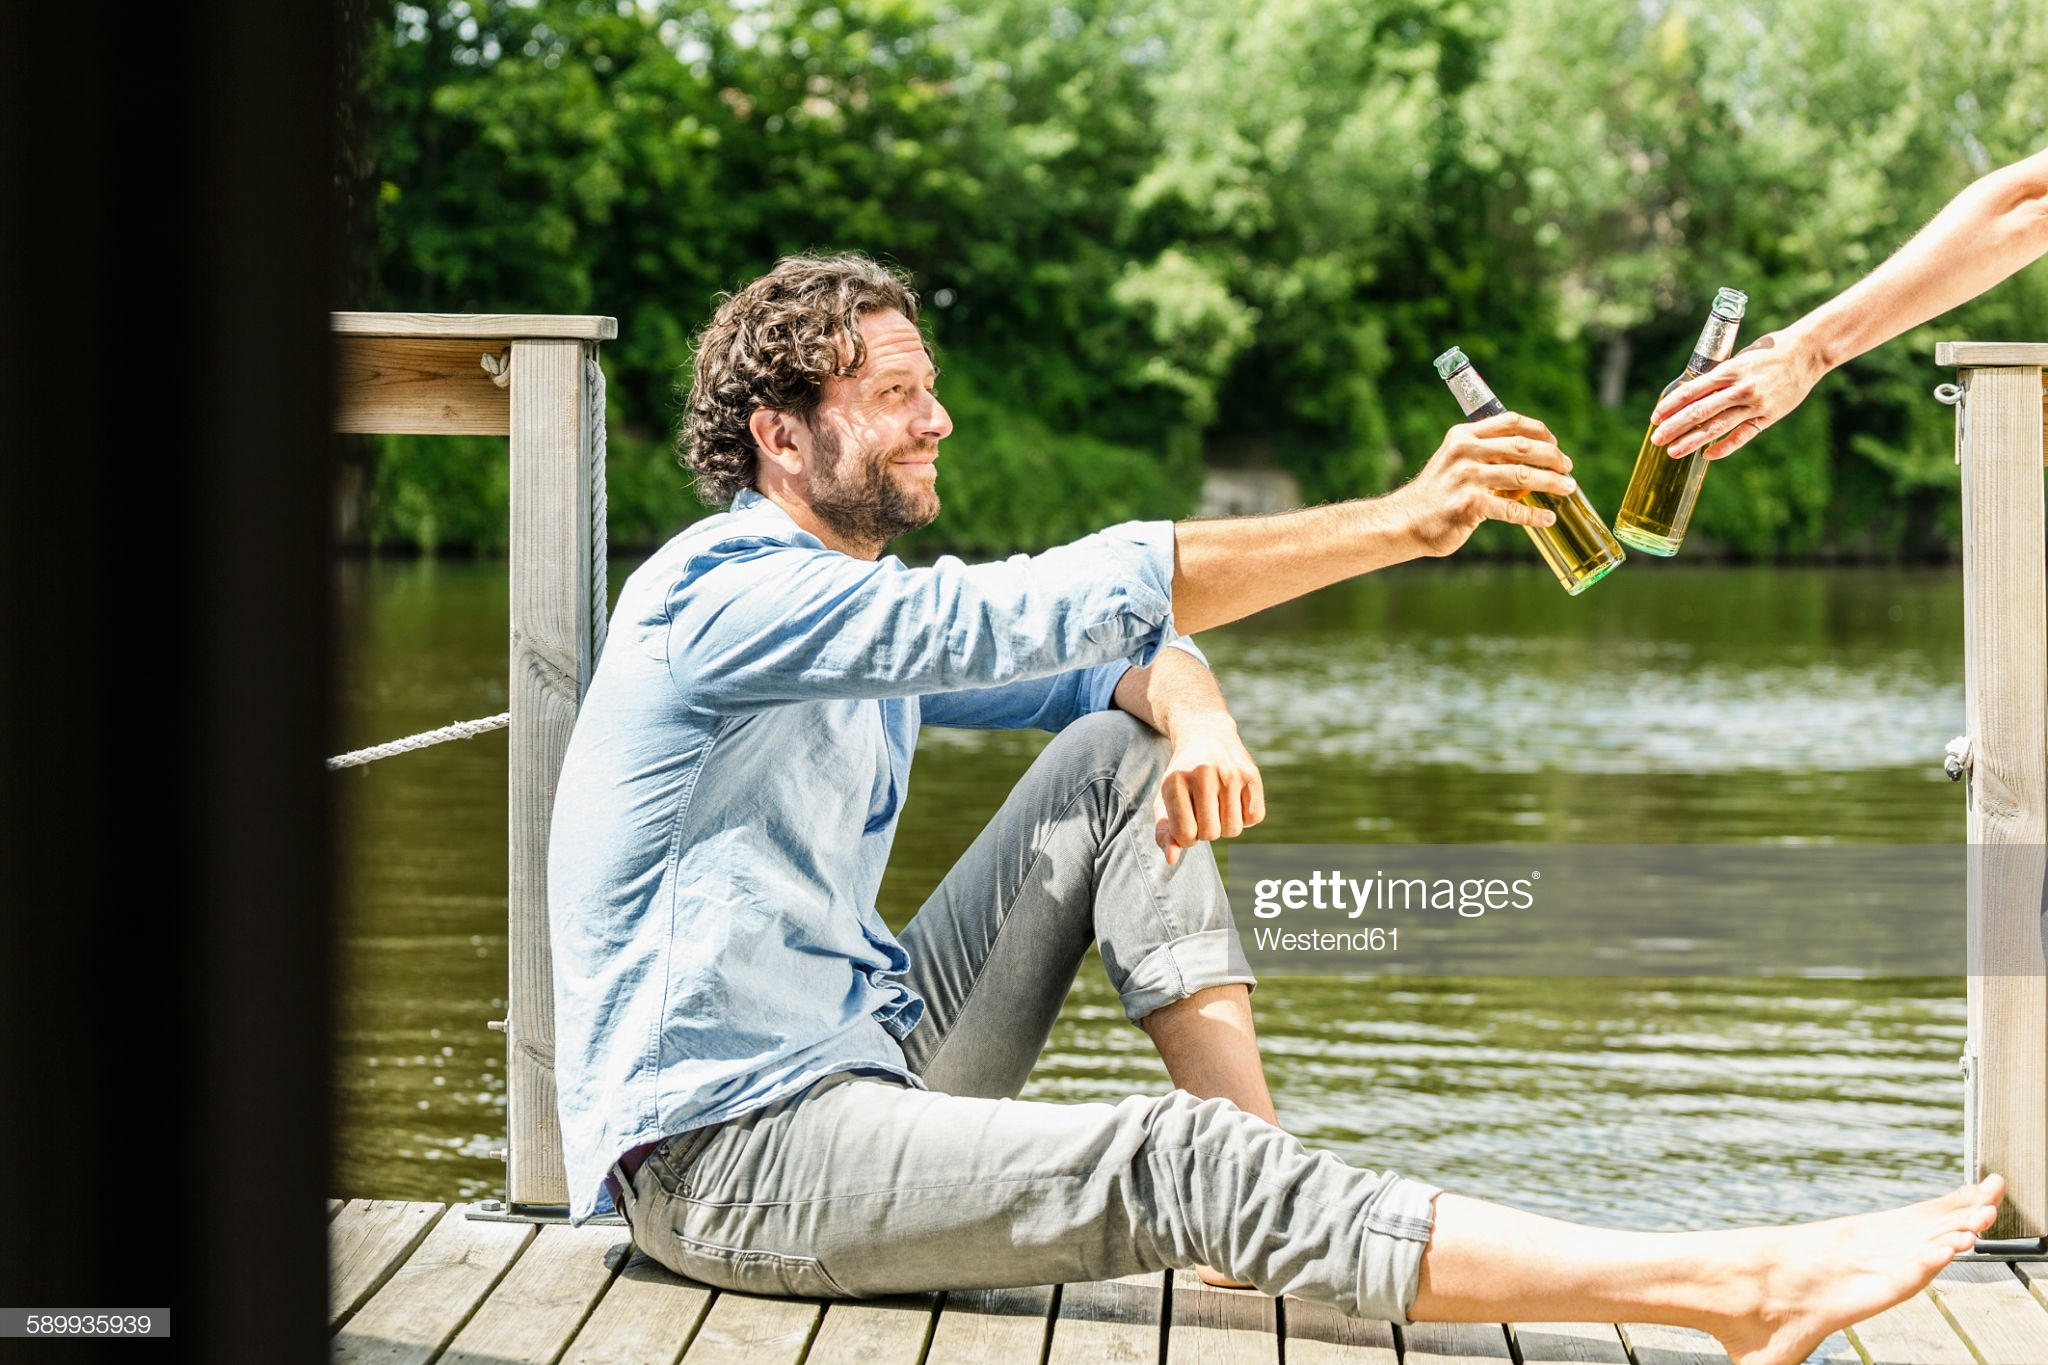beerBottle: (1427, 347, 1622, 591), (1622, 291, 1765, 555)
